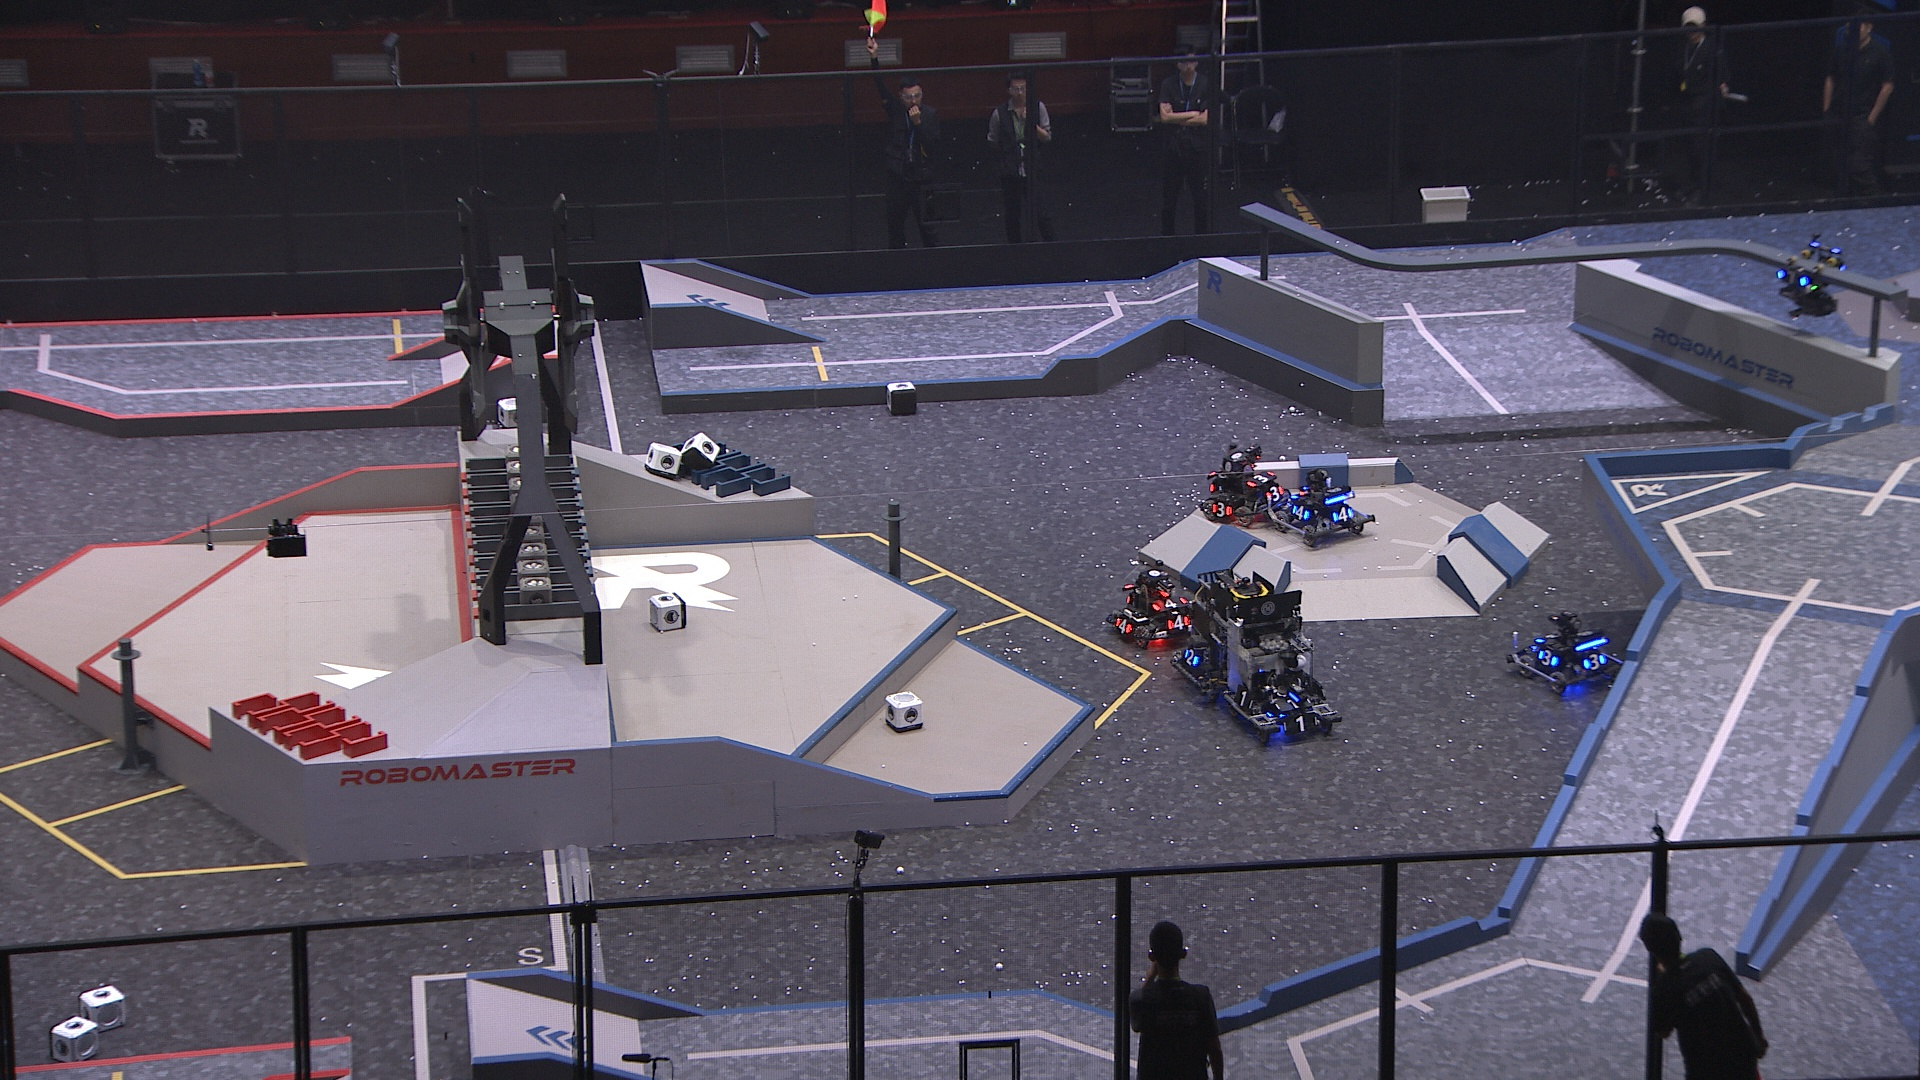armor: (1275, 695, 1313, 713), (1774, 268, 1811, 286), (1280, 716, 1319, 733), (1155, 593, 1187, 613), (1244, 471, 1273, 488), (1538, 647, 1560, 669), (1234, 687, 1254, 711), (1288, 504, 1313, 522), (1166, 615, 1192, 632), (1329, 508, 1356, 524), (1585, 651, 1607, 670), (1532, 628, 1556, 645), (1263, 485, 1286, 501), (1209, 501, 1232, 517), (1182, 647, 1199, 666), (1116, 617, 1135, 633), (1291, 485, 1305, 500)
car: (1218, 578, 1342, 742), (1172, 567, 1269, 700), (1513, 612, 1622, 695), (1269, 467, 1375, 545), (1102, 562, 1196, 650), (1200, 439, 1288, 526)
watcher: (1774, 237, 1847, 319)
